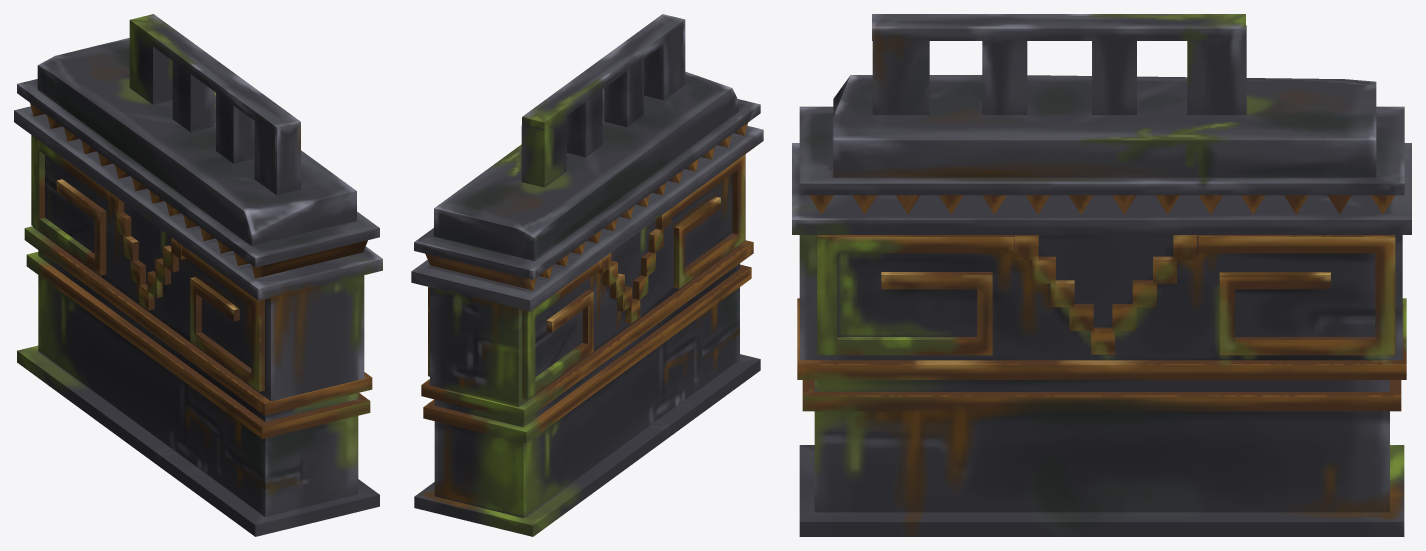
The model's file is RuinWall.fbx.
3 views of the same model, side by side, from view 1: azimuth 30°, elevation 25°; view 2: azimuth 150°, elevation 25°; view 3: azimuth 270°, elevation 25° (orthographic). The views are drawn at different scales.
Visible parts, largest first — view 1: BigWall; view 2: BigWall; view 3: BigWall.
Boxes of the visible parts, x1,y1,x2,y2 form: BigWall: [14, 14, 382, 536]; BigWall: [411, 14, 763, 536]; BigWall: [792, 14, 1411, 536].
Bounding box in the file's own units: 105 × 303 × 356.
